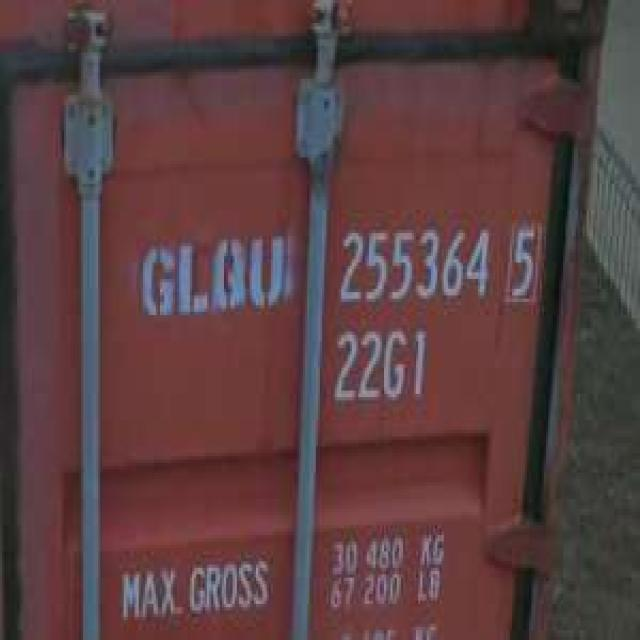dv: (501, 214, 544, 308)
owner: (130, 217, 299, 328)
serial: (330, 216, 492, 308)
size: (326, 318, 431, 411)
